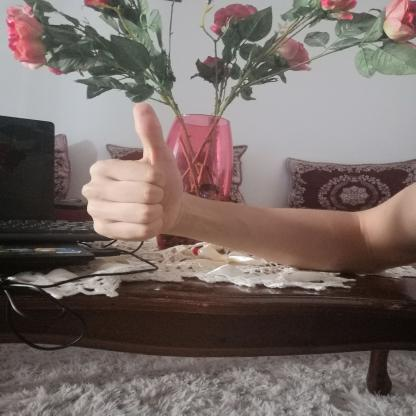ALIF: (65, 90, 194, 248)
